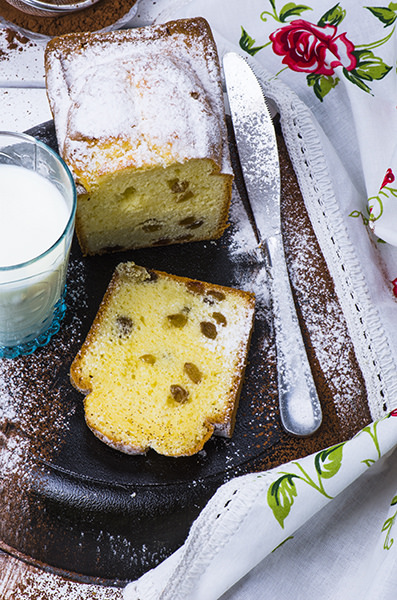glass of milk: (1, 120, 74, 352)
slice of bread: (81, 264, 257, 461)
